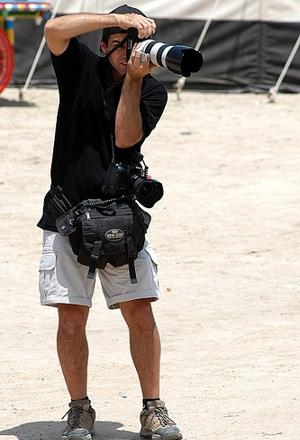person: (44, 5, 182, 440)
